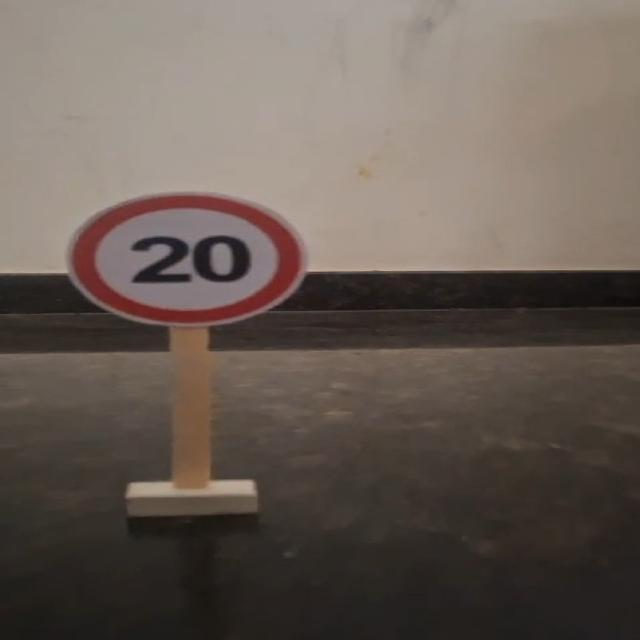Speed20: (50, 185, 322, 329)
